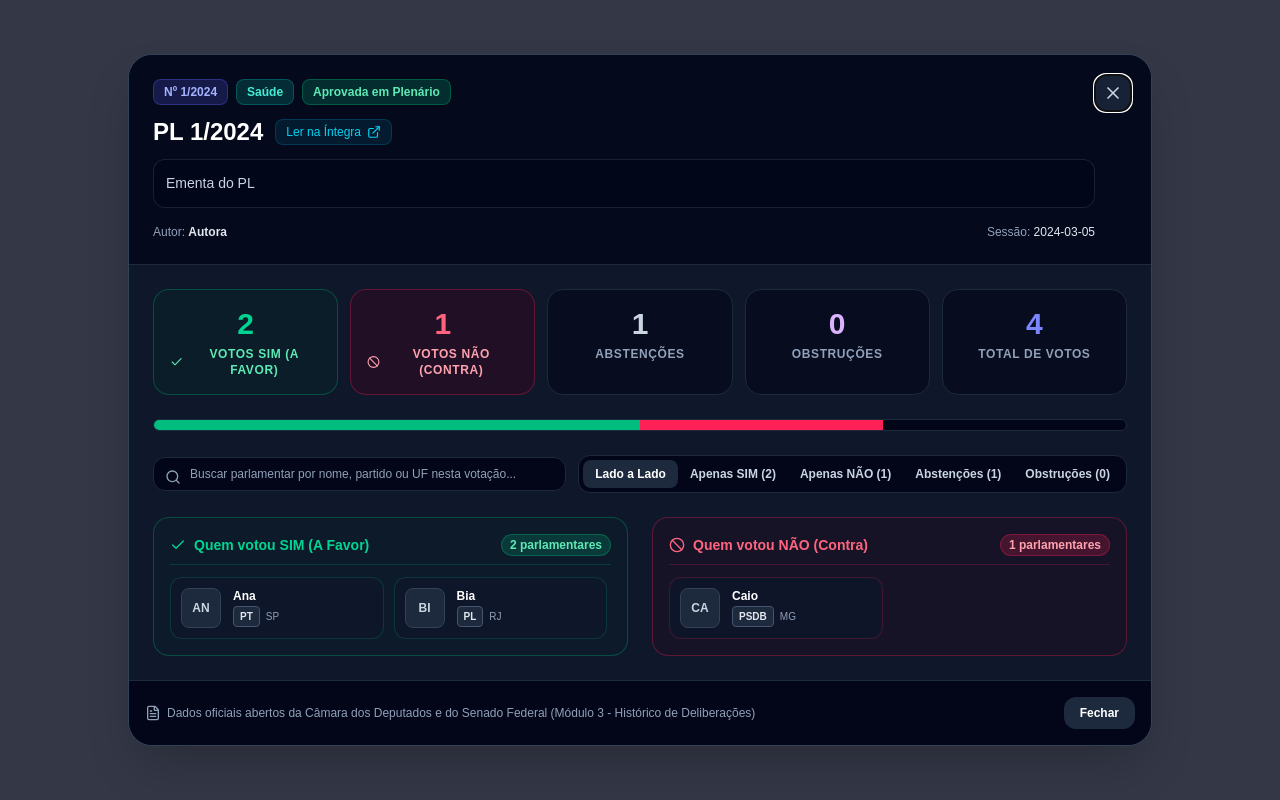
Test: PropositionVoteModal › filtra por nome, partido ou UF (com debounce) e limpa a busca
The width and height of the screenshot is (1280, 800).
Expected: the heading "Quem votou SIM (A Favor)" is shown, [170,535,369,555]
Step 1. Type "rj" into the field labelled "Buscar parlamentar por nome, partido ou UF nesta votação..." → point(360, 474), box [153,457,566,491]
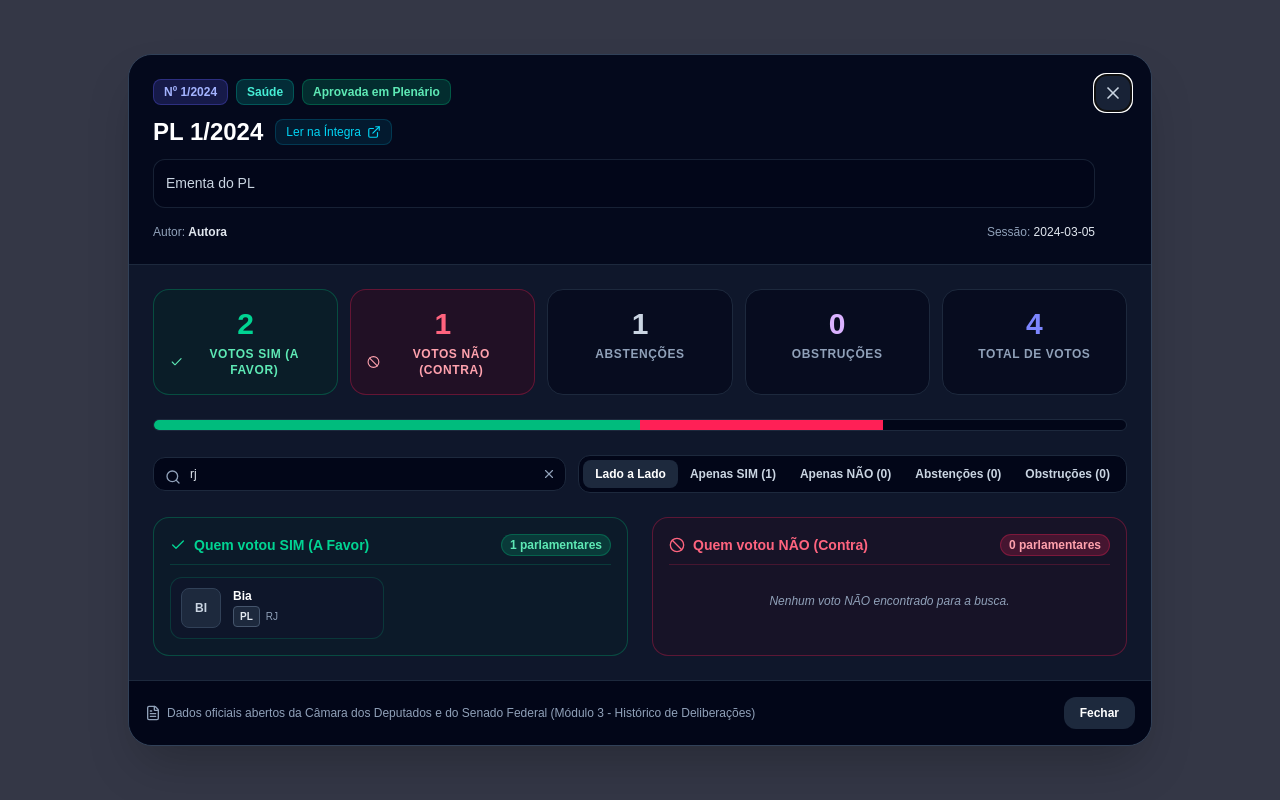
Expected: the text "Ana" is gone
Expected: the button "Apenas SIM (1)" is shown, [678,460,788,488]
Expected: the button "Apenas NÃO (0)" is shown, [788,460,903,488]
Step 2. Click the button named "Limpar busca" → point(549, 474), box [542,467,556,481]
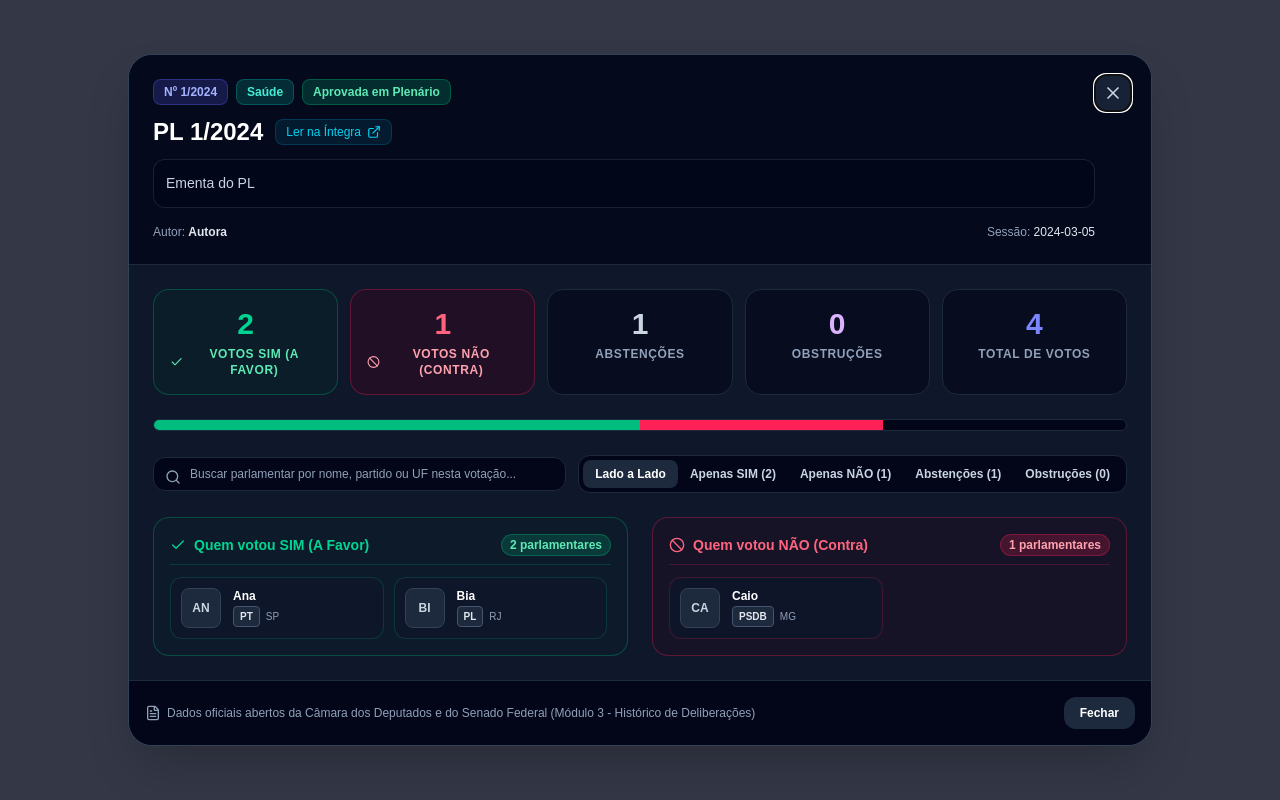
Expected: the text "Ana" is shown, [233,589,256,603]
